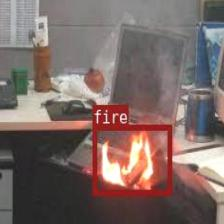fire: (92, 124, 171, 194)
